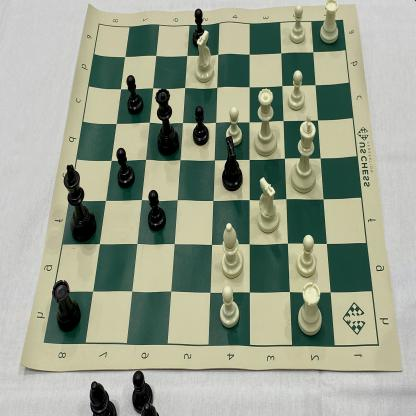black-bishop: (288, 2, 308, 44)
black-king: (62, 160, 98, 246)
black-knight: (219, 135, 245, 192)
black-pawn: (145, 187, 168, 232), (114, 145, 136, 190), (124, 73, 144, 118), (191, 104, 211, 147), (191, 6, 206, 47)
black-queen: (154, 86, 180, 158)
black-rook: (51, 271, 83, 336)
white-bishop: (219, 219, 244, 279)
white-king: (289, 112, 320, 194), (255, 173, 281, 233)
white-knight: (193, 28, 215, 84)
white-pawn: (218, 283, 243, 329), (294, 233, 318, 278), (287, 68, 308, 112), (224, 104, 244, 146)
white-queen: (253, 84, 277, 159)
white-rook: (294, 280, 326, 338), (319, 0, 341, 45)
